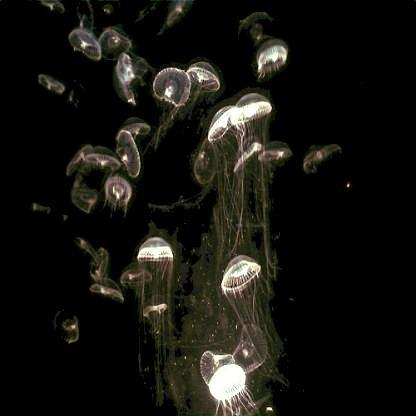FriedEggs: (221, 254, 266, 339), (209, 368, 257, 412), (306, 141, 346, 192), (233, 327, 269, 375), (197, 346, 237, 388), (255, 40, 293, 84), (190, 62, 224, 110), (153, 64, 189, 106), (210, 107, 242, 153), (237, 12, 273, 52), (229, 93, 272, 126), (138, 238, 177, 272), (192, 140, 218, 189), (103, 176, 135, 214), (261, 137, 296, 170), (67, 29, 99, 65), (86, 145, 122, 177), (63, 82, 89, 126), (167, 0, 194, 41), (115, 132, 142, 173), (98, 27, 132, 57), (54, 305, 80, 344), (65, 141, 93, 177), (235, 133, 263, 168), (121, 263, 151, 294), (89, 279, 129, 301), (145, 298, 168, 334), (116, 118, 150, 141), (95, 3, 130, 25), (73, 180, 97, 212), (114, 68, 136, 102), (92, 245, 112, 281), (72, 0, 94, 31), (37, 72, 65, 96), (27, 196, 55, 220), (115, 55, 143, 79), (74, 234, 98, 262), (30, 3, 66, 19)
